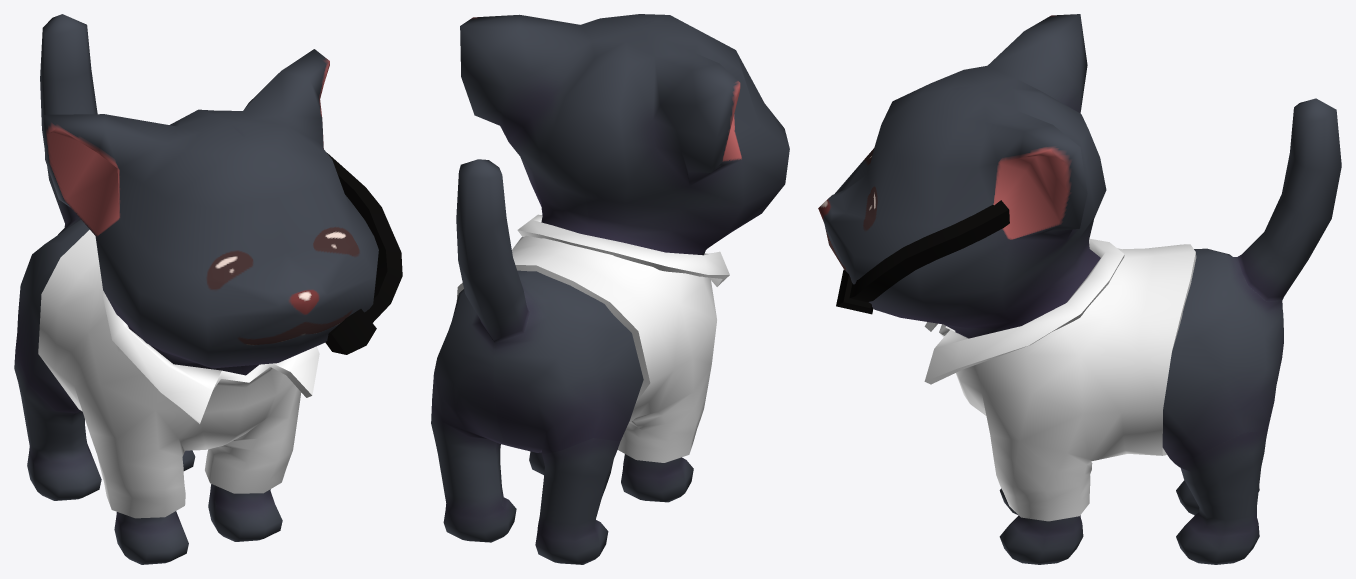
Rendered from Conference Cat03.fbx.
3 renders of one model, left to right at view 1: azimuth 30°, elevation 25°; view 2: azimuth 150°, elevation 25°; view 3: azimuth 270°, elevation 25°, orthographic. The views are drawn at different scales.
Visible parts, largest first — view 1: Cat_Base002, Conference_Cat_Shirt, Conference_Cat_Mic; view 2: Cat_Base002, Conference_Cat_Shirt; view 3: Cat_Base002, Conference_Cat_Shirt, Conference_Cat_Mic.
Boxes of the visible parts, x1,y1,x2,y2 form: Cat_Base002: (14, 14, 378, 564); Conference_Cat_Shirt: (38, 229, 319, 518); Conference_Cat_Mic: (325, 153, 402, 354); Cat_Base002: (431, 14, 789, 564); Conference_Cat_Shirt: (456, 214, 729, 462); Cat_Base002: (818, 14, 1341, 564); Conference_Cat_Shirt: (924, 238, 1196, 521); Conference_Cat_Mic: (836, 200, 1009, 314).
Size of the model in its own units: 1.75 by 2.83 by 2.68.
3 materials, 1 textured.
